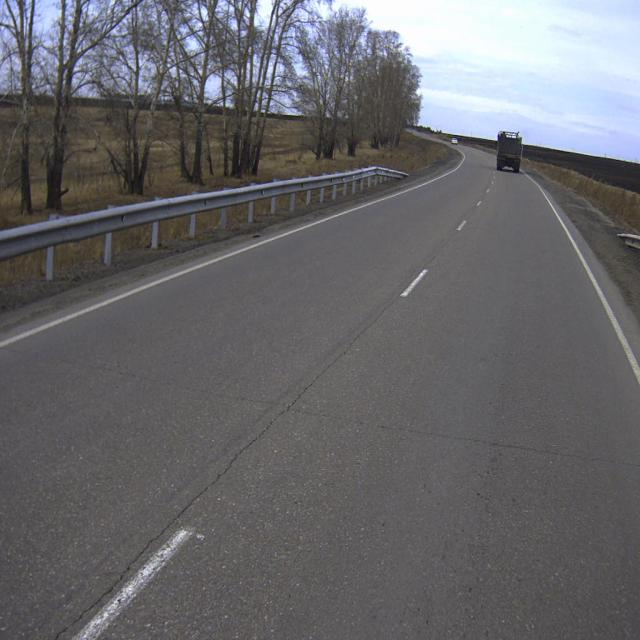road: (0, 141, 640, 639), (520, 166, 521, 168)
